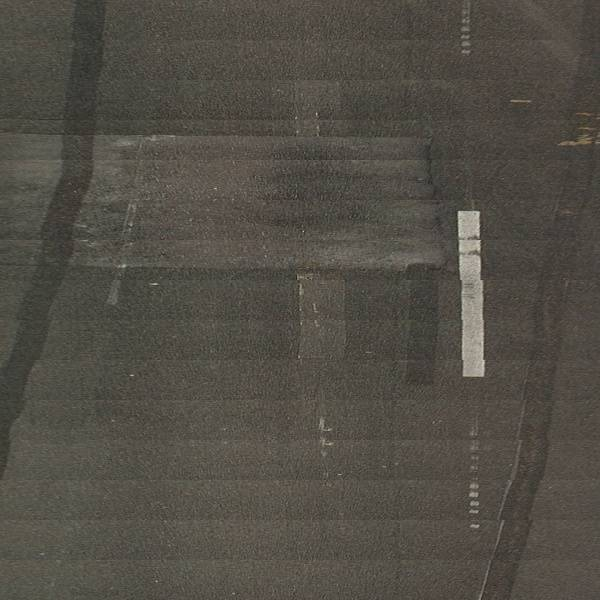road_damage: (106, 130, 456, 284), (259, 142, 378, 238), (96, 259, 450, 278), (413, 133, 453, 273), (550, 104, 600, 147)
